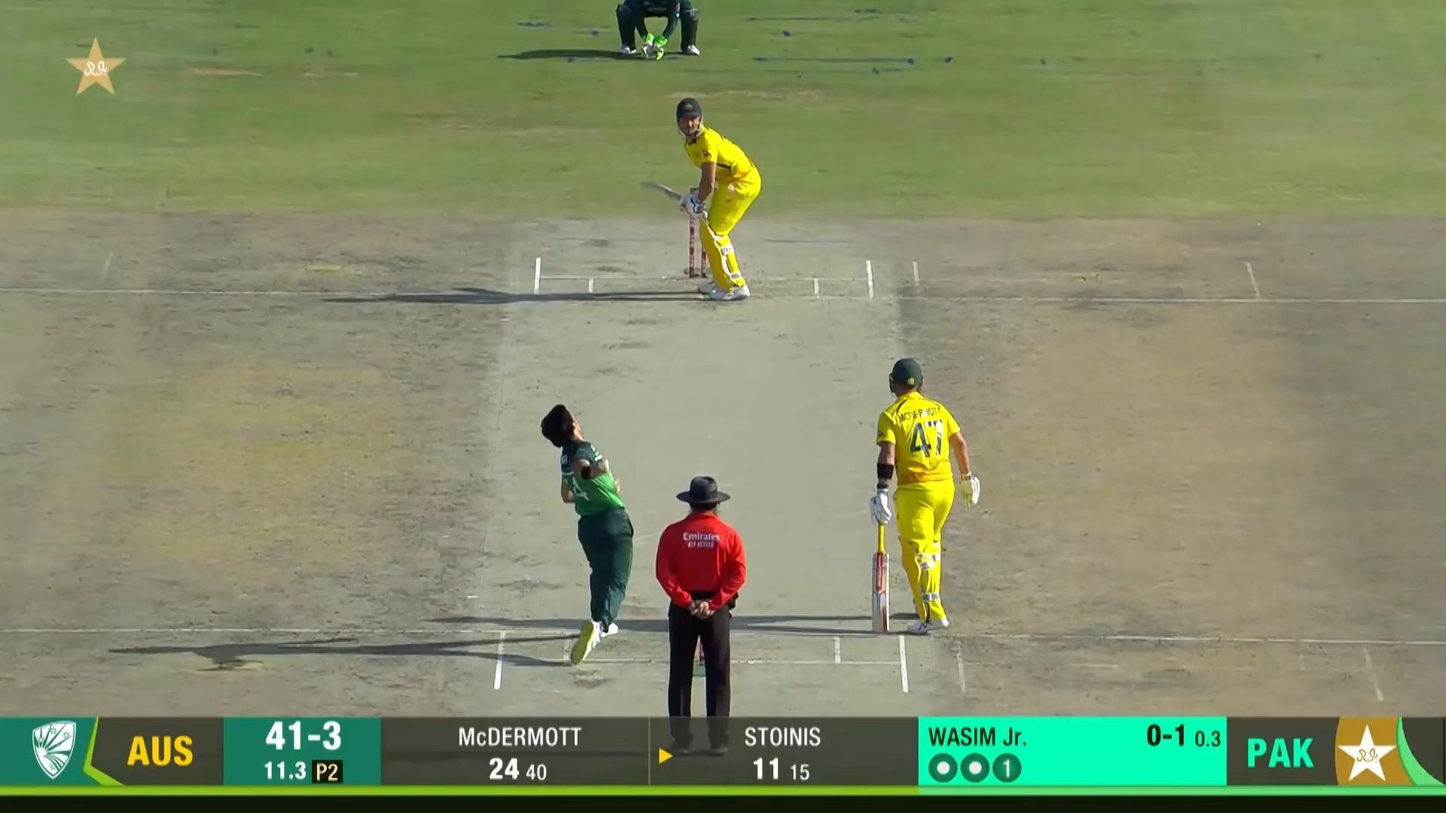BM 1: (640, 99, 763, 301)
BO: (539, 403, 638, 668)
